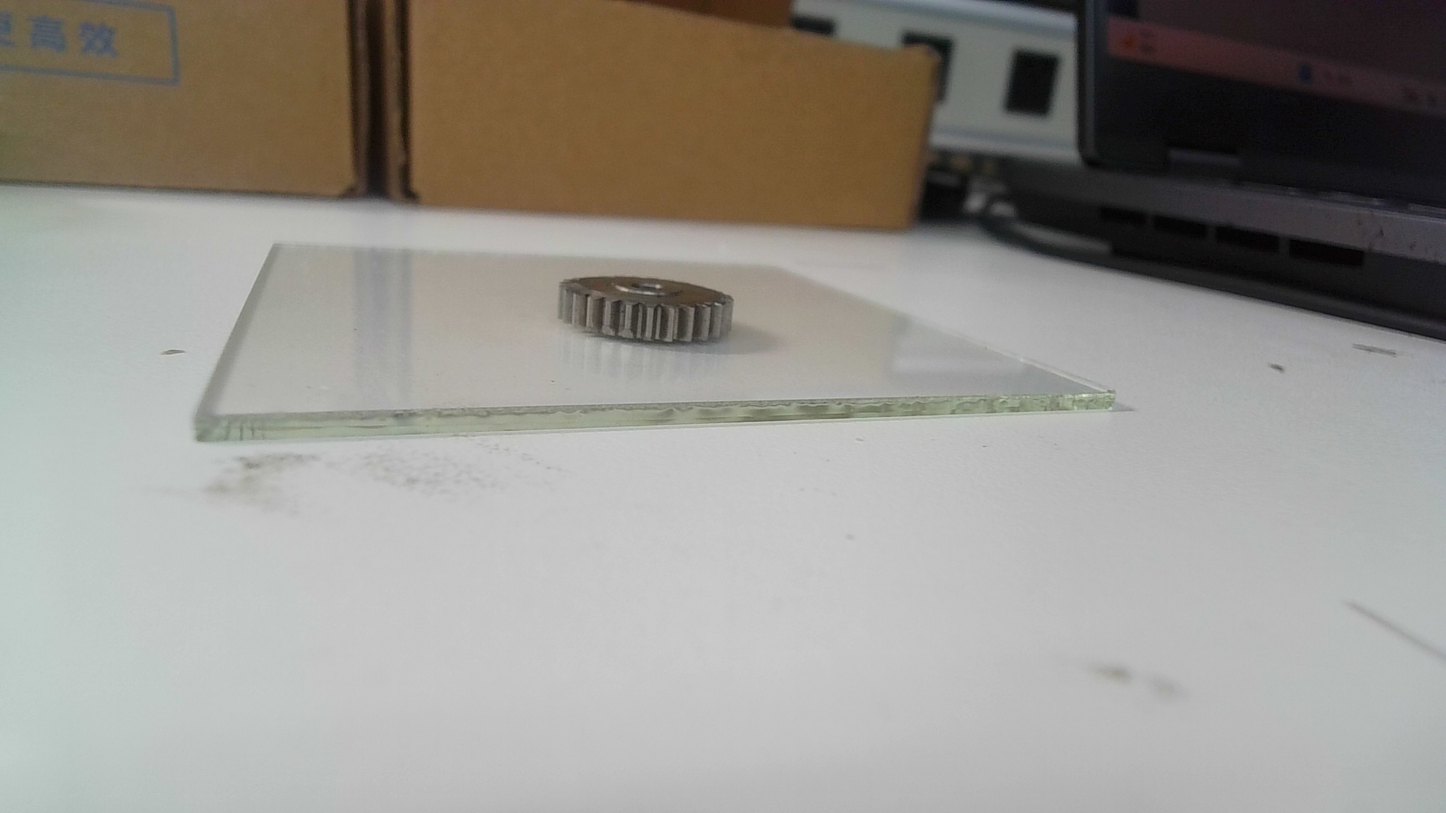gear: (555, 273, 739, 347)
